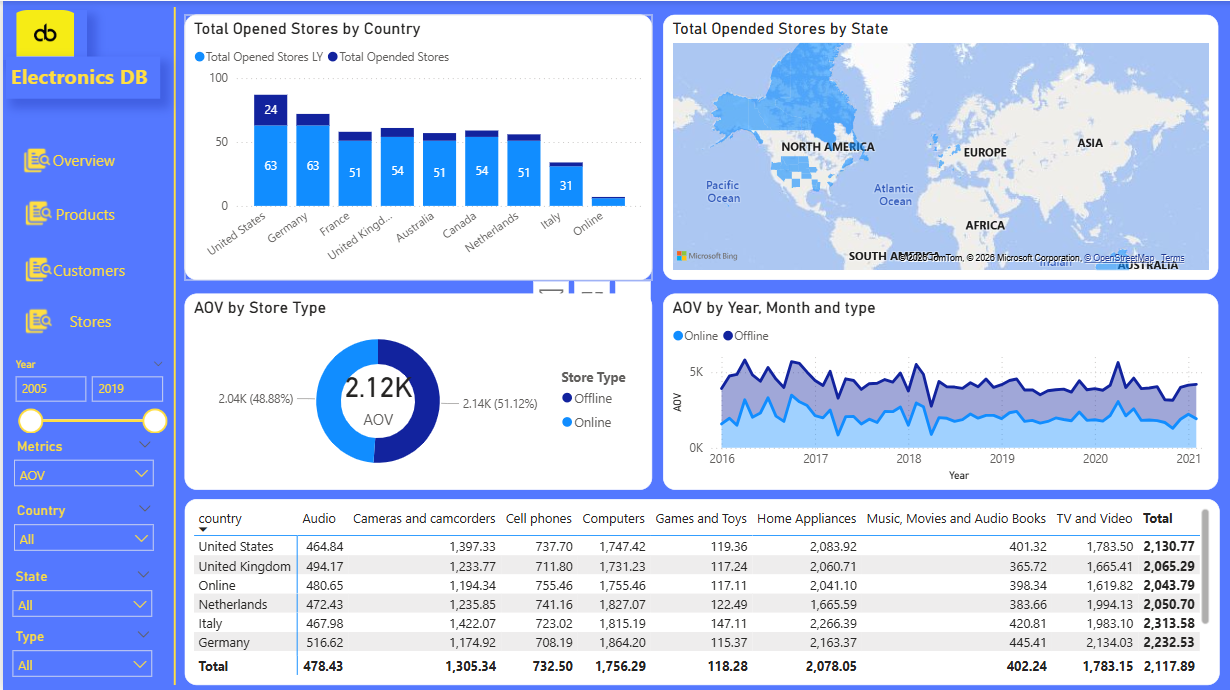

The page's visual inventory and layout, read from the dashboard file:
{"tool":"powerbi","page":{"name":"Stores","canvas":[1280,720],"ordinal":3},"visuals":[{"type":"actionButton","title":"Overview","box":[6,139.2,167,53.7],"z":0,"group":"g1"},{"type":"slicer","fields":{"Values":["Metrics 2.Metrics"]},"box":[2,449.4,165.1,67.6],"z":0},{"type":"actionButton","title":"Overview","box":[8,194.9,167,51.7],"z":1000,"group":"g1"},{"type":"slicer","fields":{"Values":["dim_stores.open_date.Variation.Date Hierarchy.Year"]},"box":[0,367.9,179,83.5],"z":1000},{"type":"columnChart","title":"Total Opened Stores by Country","fields":{"Y":["metrics.Total Opened Stores Last year","metrics.Total Opended Stores"],"Category":["dim_stores.country"]},"box":[188.9,13.9,487.2,276.4],"z":2000},{"type":"actionButton","title":"Overview","box":[8,254.4,167,49.7],"z":2000,"group":"g1"},{"type":"actionButton","title":"Overview","box":[8,312.1,167,41.8],"z":3000,"group":"g1"},{"type":"slicer","fields":{"Values":["dim_stores.state"]},"box":[0,586.6,165.1,61.6],"z":3000},{"type":"slicer","fields":{"Values":["dim_stores.type"]},"box":[0,648.3,165.1,63.6],"z":4000},{"type":"filledMap","title":"Total Opended Stores by State","fields":{"Category":["dim_stores.state"]},"box":[688.1,13.9,578.7,276.4],"z":5000},{"type":"donutChart","fields":{"Y":["metrics.AOV"],"Category":["dim_stores.type"]},"box":[188.9,304.3,487.2,204.8],"z":6000},{"type":"stackedAreaChart","fields":{"Y":["metrics.AOV"],"Category":["dim_Date.Date.Variation.Date Hierarchy.Year","dim_Date.Date.Variation.Date Hierarchy.Month"],"Series":["dim_stores.type"]},"box":[688.1,304.3,578.7,204.8],"z":7000},{"type":"pivotTable","fields":{"Values":["metrics.AOV"],"Rows":["dim_stores.country"],"Columns":["dim_products.category"]},"box":[189.1,518.9,1078.5,193.8],"z":8000},{"type":"card","fields":{"Values":["metrics.AOV"]},"box":[340.7,368.9,100,84.4],"z":9000},{"type":"shape","box":[120.4,6.3,117.2,706.5],"z":10000},{"type":"slicer","fields":{"Values":["dim_stores.country"]},"box":[2,517,165.1,69.6],"z":11000},{"type":"group","id":"g1","title":"Navigation buttons","box":[6,139.2,169,214.6],"z":12000},{"type":"image","box":[0,9.9,87.5,51.7],"z":12001},{"type":"textbox","box":[3.2,58.4,160.5,43.8],"z":12002}]}

Visuals, with their boxes in screenshot pixels (x1, y1, x2, y2), scaled from the page's 1280x720 canvas onto the 1230x690 screenshot:
"Overview" actionButton: detection(6, 133, 166, 185)
slicer - Metrics 2.Metrics: detection(2, 431, 161, 495)
"Overview" actionButton: detection(8, 187, 168, 236)
slicer - dim_stores.open_date.Variation.Date Hierarchy.Year: detection(0, 353, 172, 433)
"Total Opened Stores by Country" columnChart: detection(182, 13, 650, 278)
"Overview" actionButton: detection(8, 244, 168, 291)
"Overview" actionButton: detection(8, 299, 168, 339)
slicer - dim_stores.state: detection(0, 562, 159, 621)
slicer - dim_stores.type: detection(0, 621, 159, 682)
"Total Opended Stores by State" filledMap: detection(661, 13, 1217, 278)
donutChart - metrics.AOV x dim_stores.type: detection(182, 292, 650, 488)
stackedAreaChart - metrics.AOV x dim_Date.Date.Variation.Date Hierarchy.Year: detection(661, 292, 1217, 488)
pivotTable - metrics.AOV x dim_stores.country: detection(182, 497, 1218, 683)
card - metrics.AOV: detection(327, 354, 423, 434)
shape: detection(116, 6, 228, 683)
slicer - dim_stores.country: detection(2, 495, 161, 562)
"Navigation buttons" group: detection(6, 133, 168, 339)
image: detection(0, 9, 84, 59)
textbox: detection(3, 56, 157, 98)
